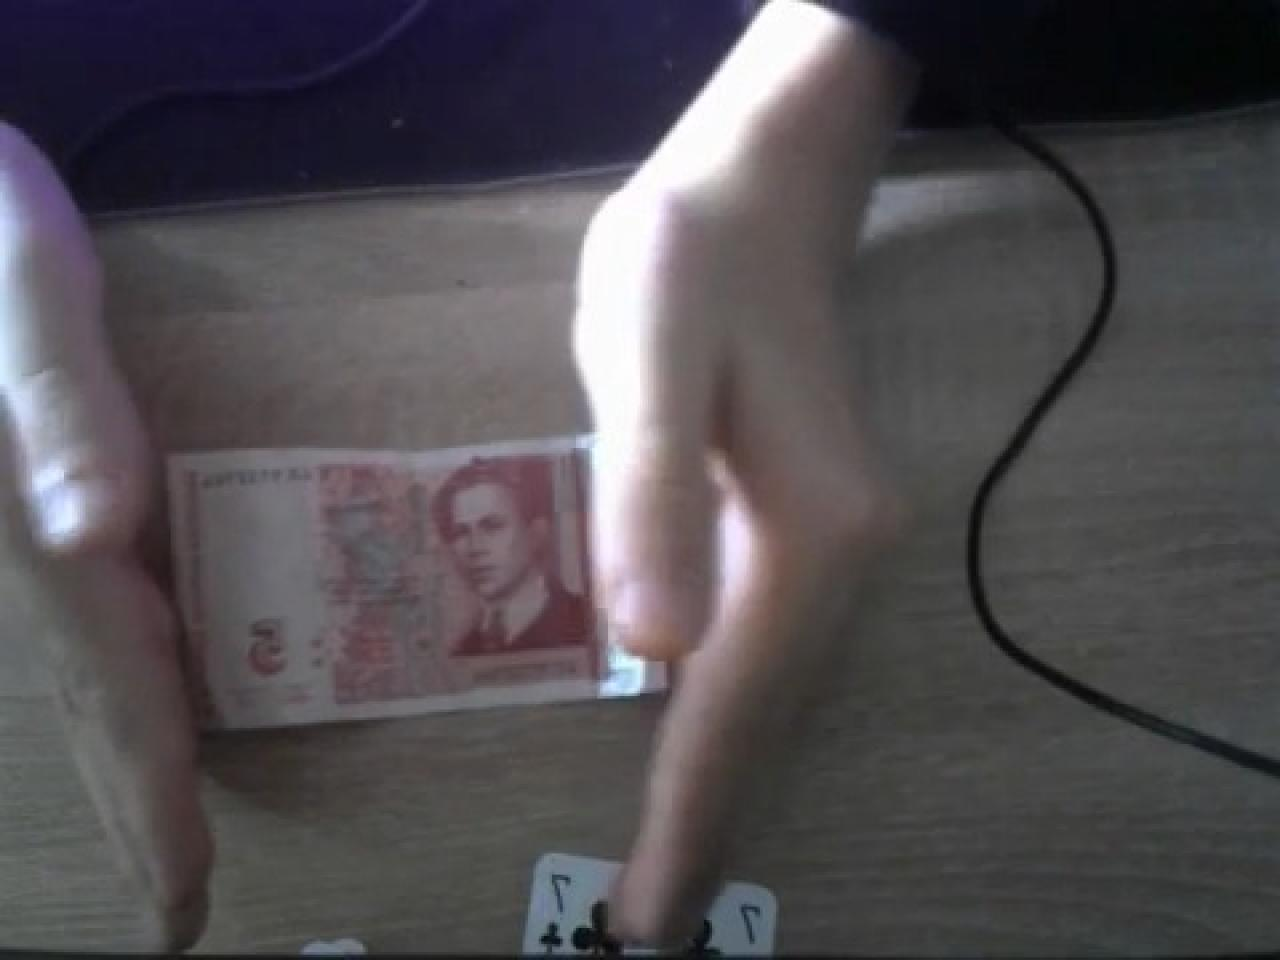5leva: (160, 435, 637, 736)
